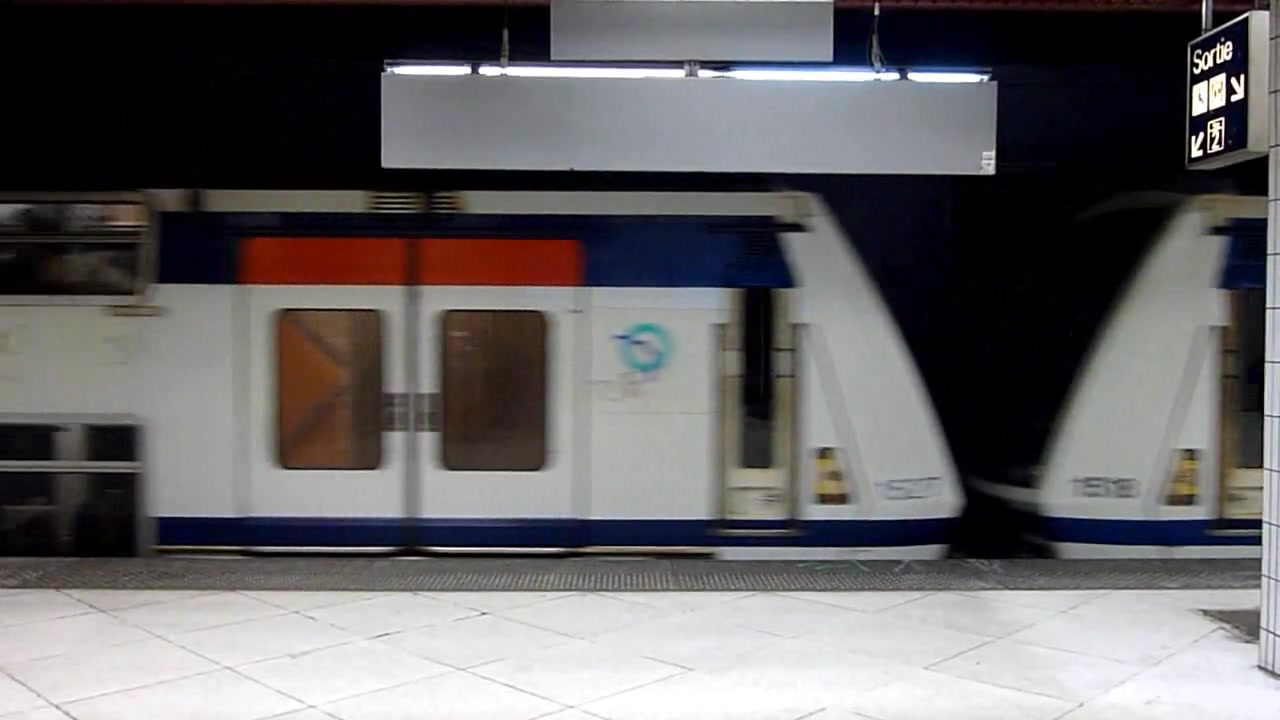train: (1, 172, 1270, 557)
